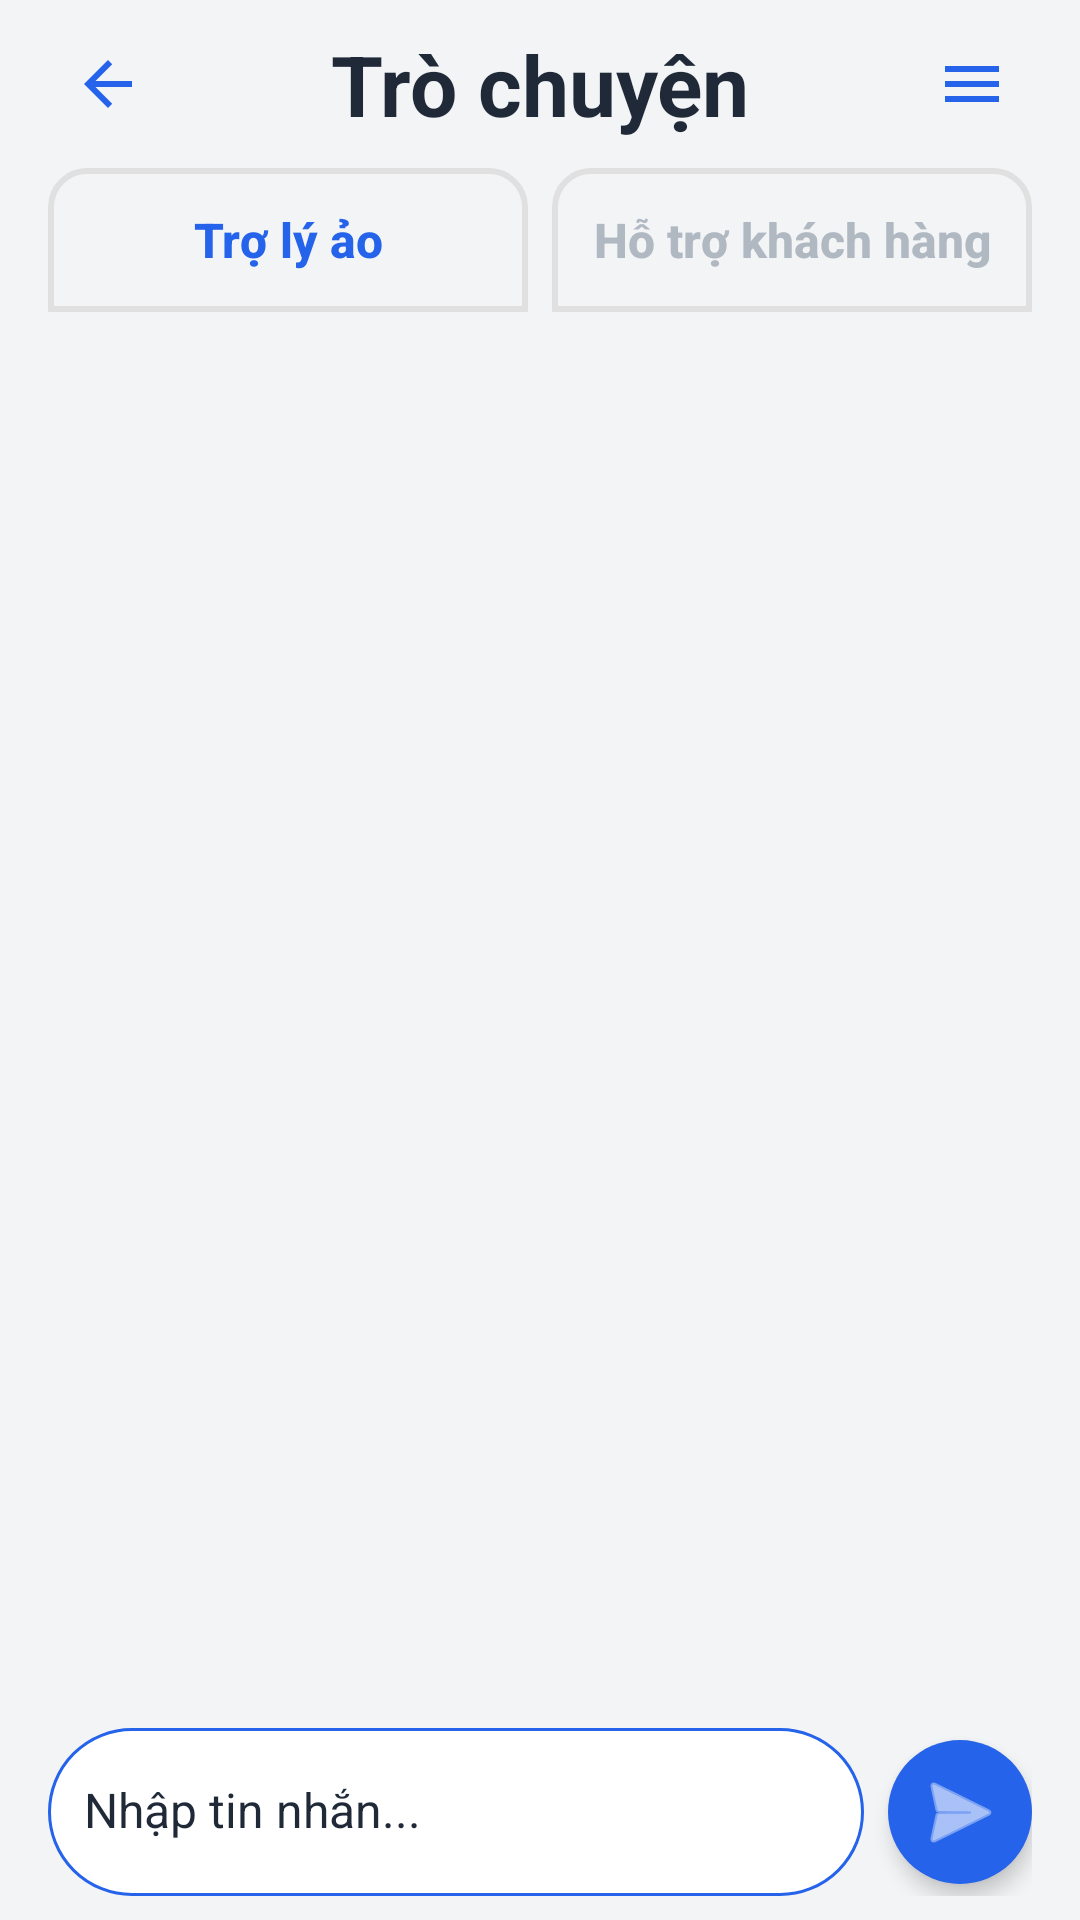

Named icons in this screenshot (1080*1920) and their bounding boxes, (x1, y1, x2, y2):
arrow back: (84, 60, 132, 108)
Gửi: (888, 1740, 1032, 1884)
menu: (945, 66, 999, 102)
